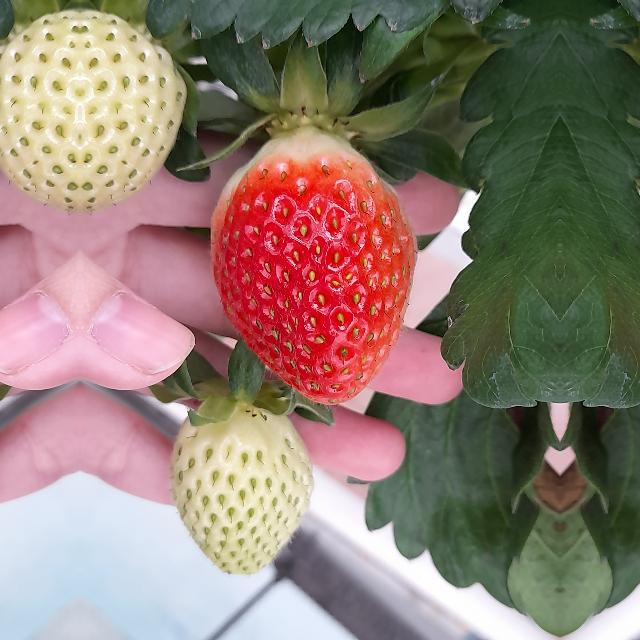Health_100: (210, 126, 418, 404)
Health_25: (167, 394, 319, 576), (80, 8, 184, 214), (0, 8, 80, 213)
